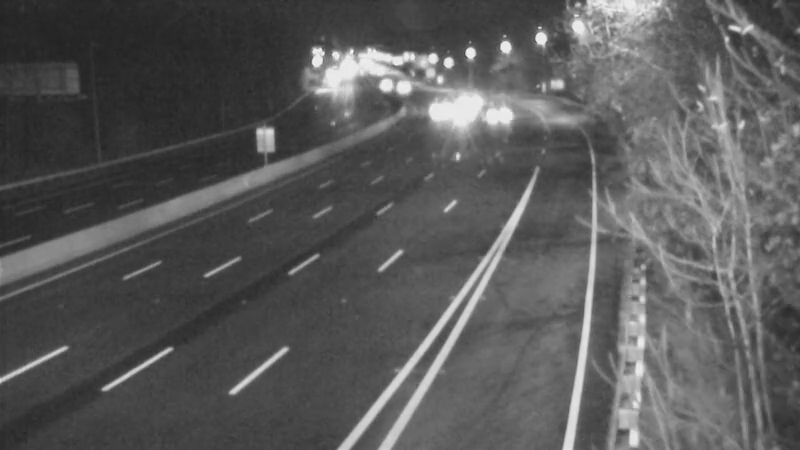vehicle: (374, 60, 424, 110), (359, 58, 409, 108), (440, 77, 490, 127), (410, 90, 460, 140), (441, 90, 491, 140), (480, 92, 530, 142)
